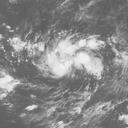cyclone: (39, 30, 102, 79)
